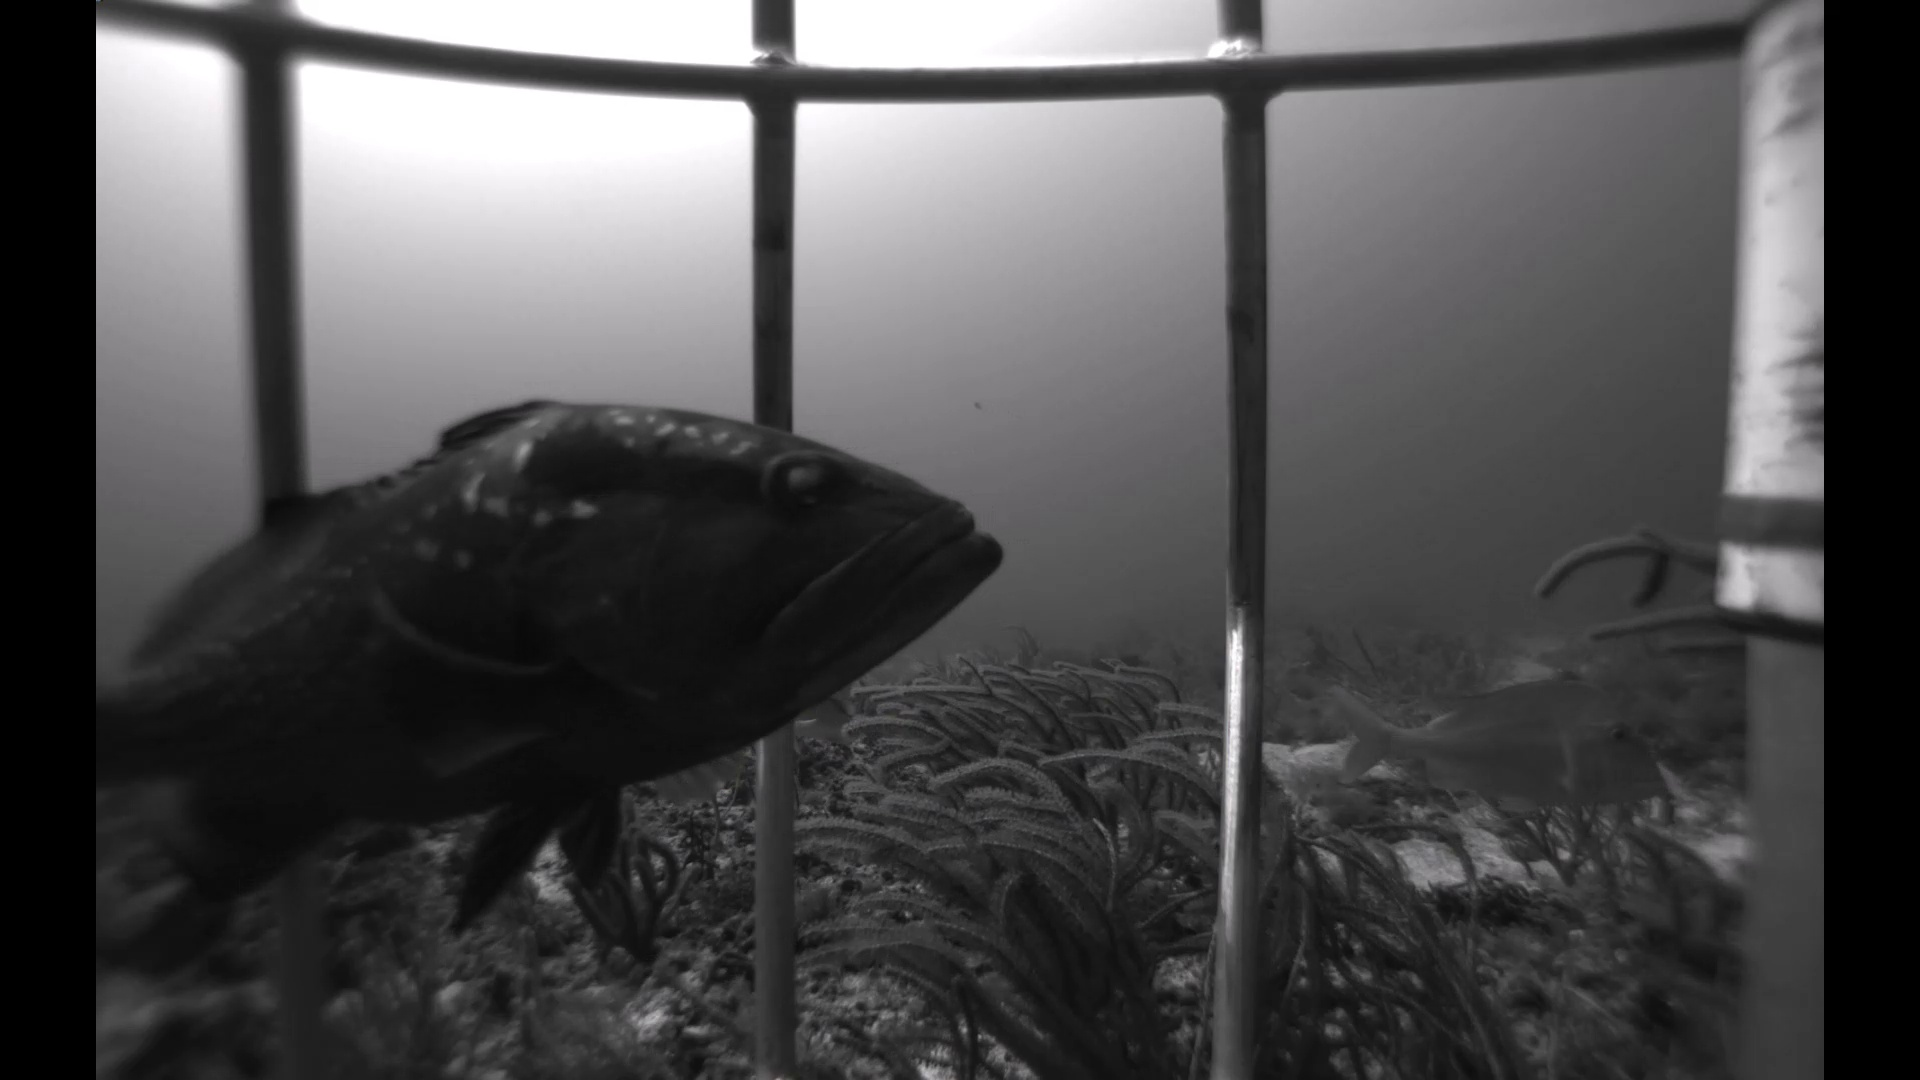CALAMUSNODOSUS-170210608: (1319, 662, 1680, 827)
EPINEPHELUSMORIO-170021211: (102, 372, 1029, 981)
LUTJANUSGRISEUS-170151109: (787, 690, 882, 760)
